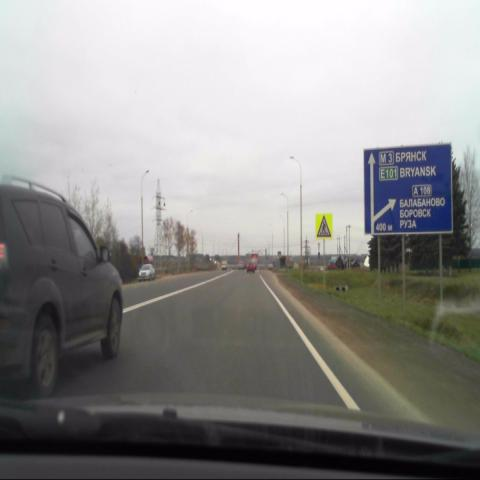1_22: (316, 214, 332, 240)
